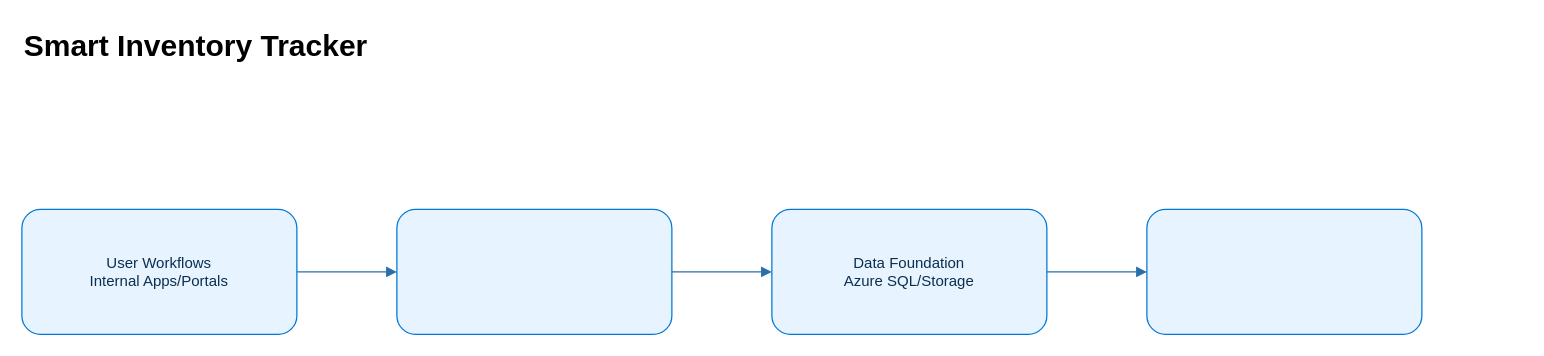
Some shapes in this 1544 by 356 pixel diagram are drawn without their labels. The shapes that lost their labels are listed below. From the top down, each one's centre as x and y in pixels, then its label:
(x=534, y=271): Integration API Layer Azure API Management + App Service
(x=1284, y=271): Observability Application Insights + Log Analytics
